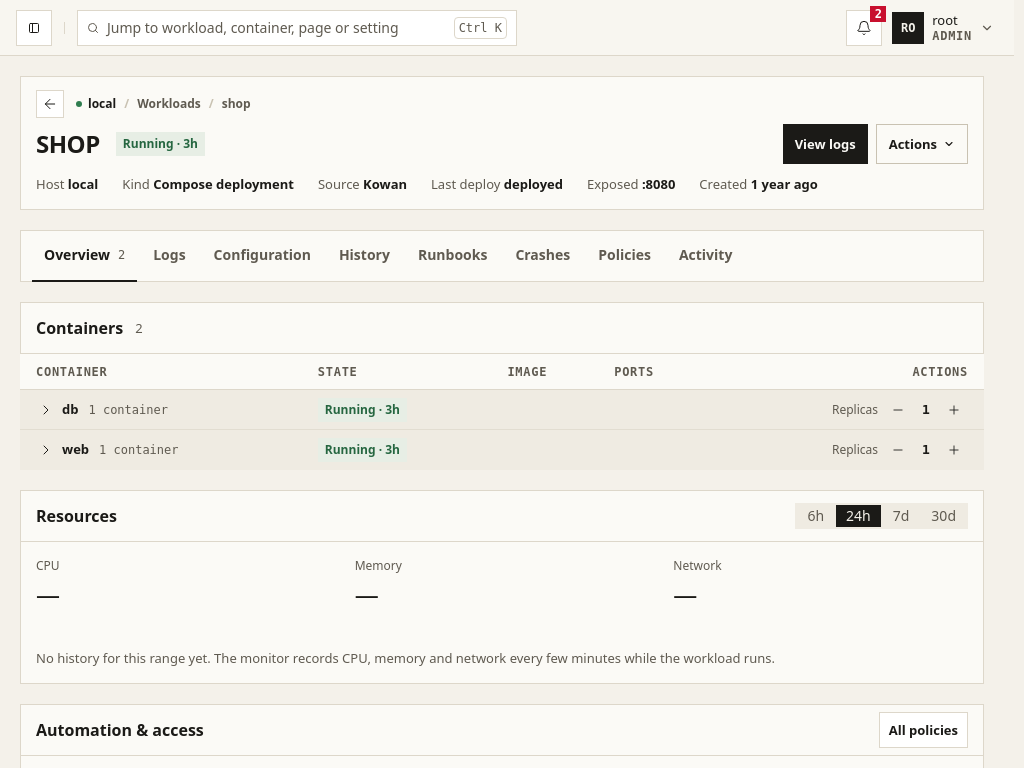
workload policies › reports schedule failures
The image size is (1024, 768).
Expected: the heading "shop" is shown, [36,128,100,160]
Click the tab "Policies".
click(625, 256)  # box [586,230,663,282]
(page scrolled)
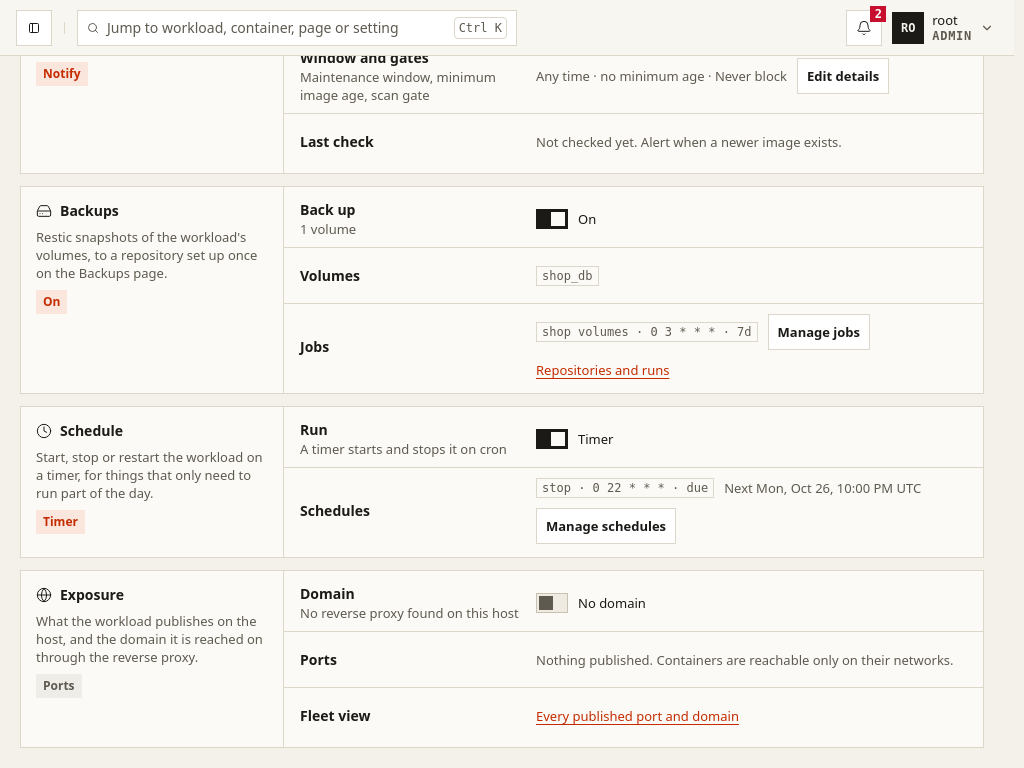
Click the switch named "schedule for shop".
click(575, 439)  # box [536,421,614,457]
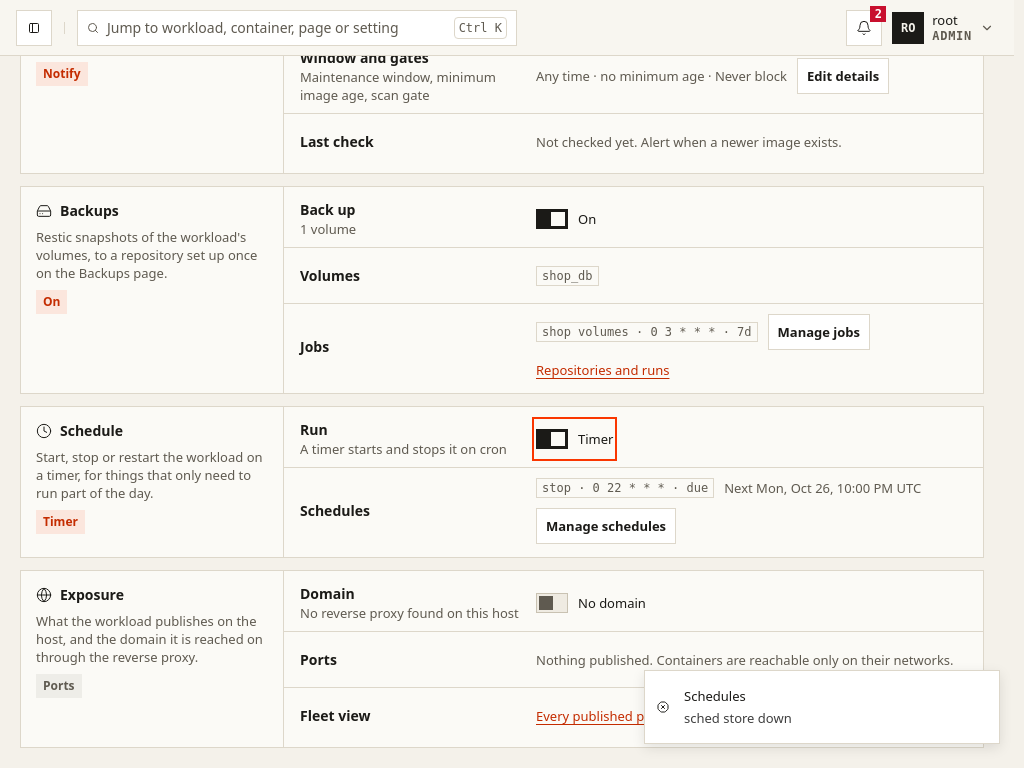
Now the text "sched store down" is shown, box [684,709,792,727]
Click the button "Manage schedules".
click(606, 526)  # box [536,508,676,544]
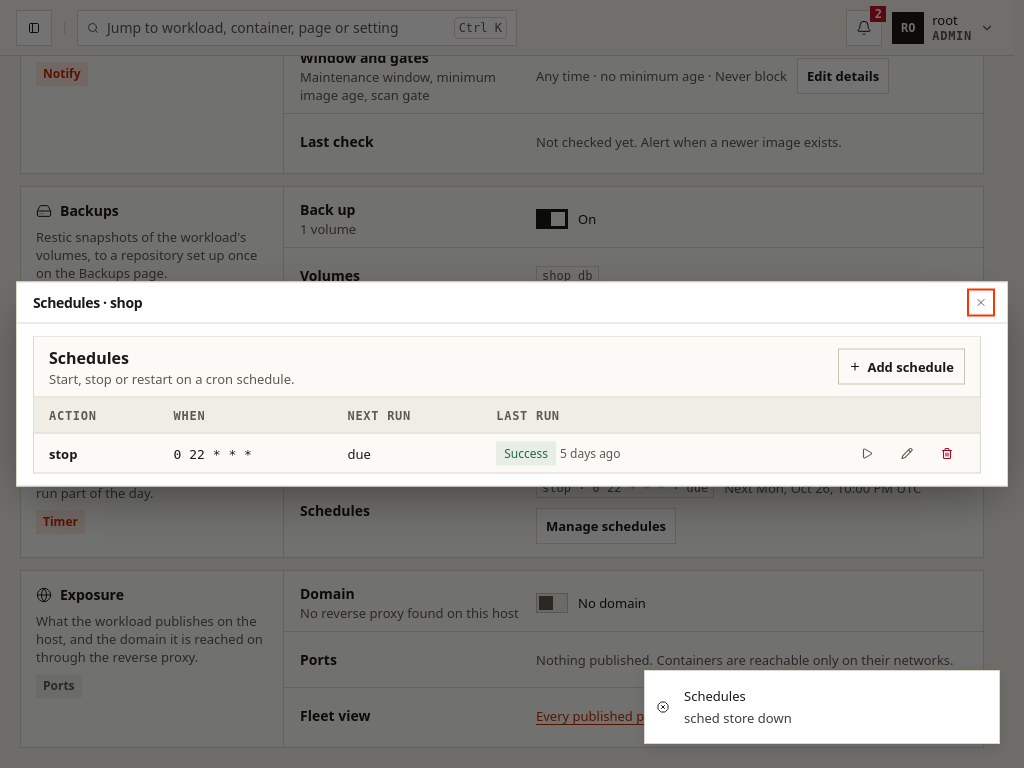
Click the button named "Run now".
click(867, 454)  # box [849,436,885,472]
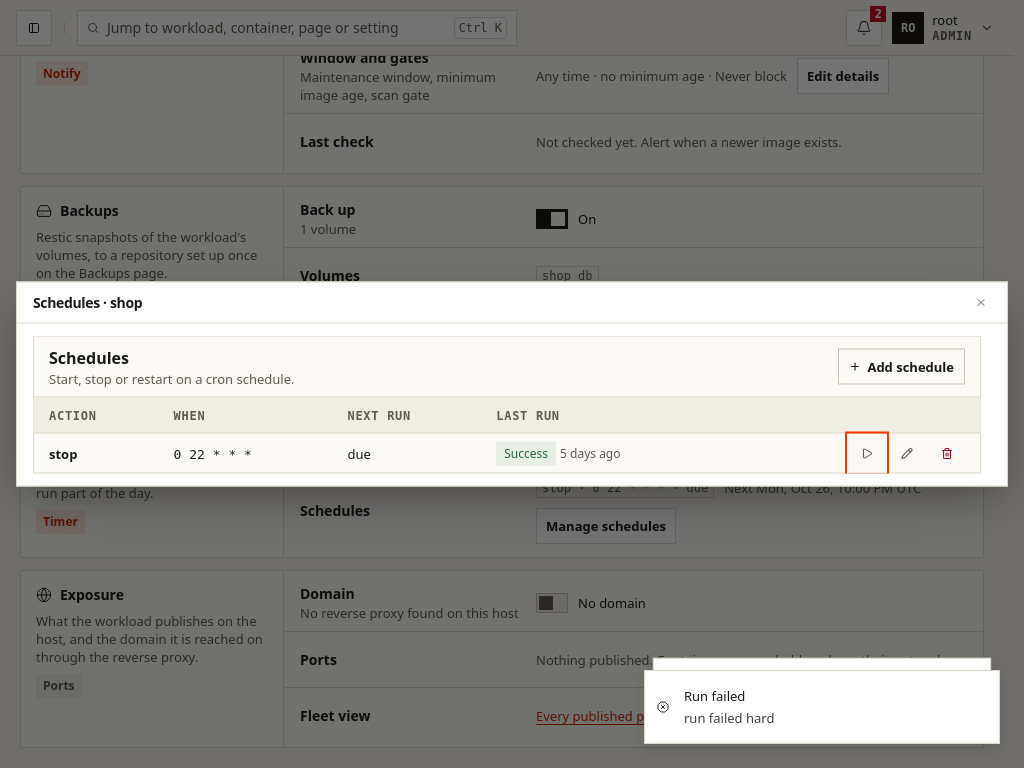
Now the text "run failed hard" is shown, box [684,709,774,727]
